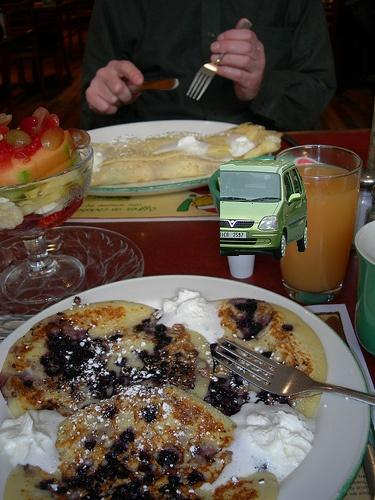tampered: (221, 161, 307, 260)
